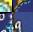mirror: (0, 0, 12, 12)
recallP: (1, 12, 12, 32)
